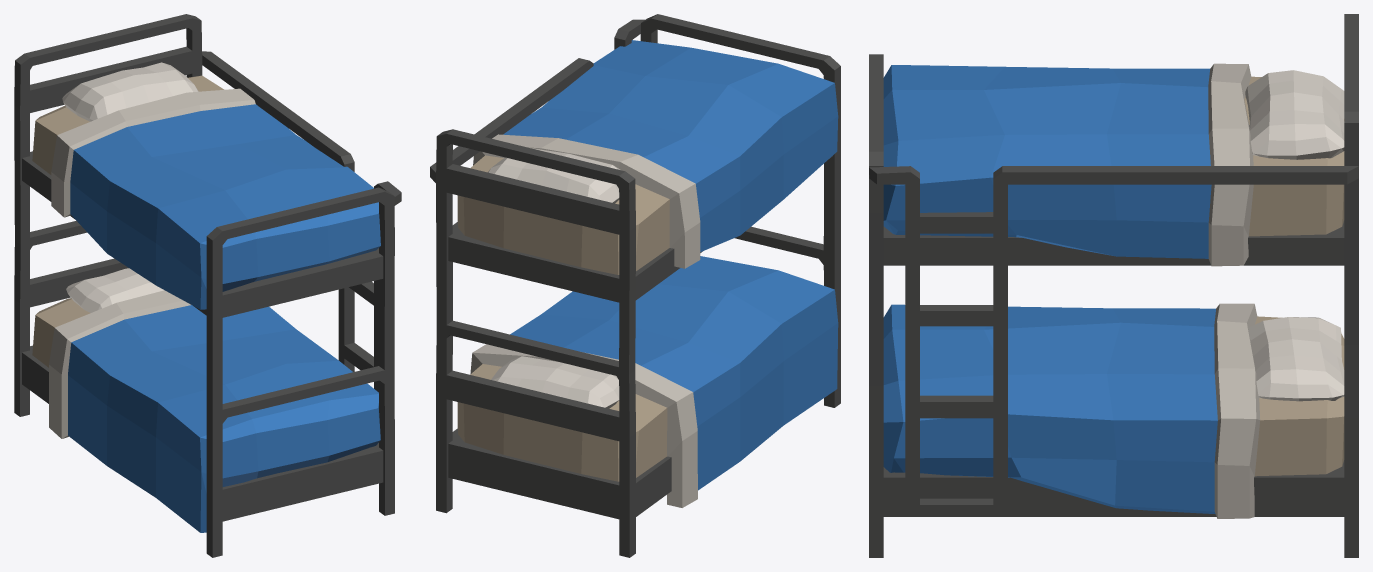
File: SM_Prop_Bed_Bunk_01.fbx
3 views of the same model, side by side, from view 1: azimuth 30°, elevation 25°; view 2: azimuth 150°, elevation 25°; view 3: azimuth 270°, elevation 25° (orthographic). The views are drawn at different scales.
Visible parts, largest first — view 1: SM_Prop_Bed_Bunk_01; view 2: SM_Prop_Bed_Bunk_01; view 3: SM_Prop_Bed_Bunk_01.
Part boxes in pixels (x1,y1,x2,y2): SM_Prop_Bed_Bunk_01: (14, 14, 401, 557); SM_Prop_Bed_Bunk_01: (430, 14, 840, 557); SM_Prop_Bed_Bunk_01: (869, 14, 1358, 557).
Size of the model in its own units: 140 by 235 by 237.
